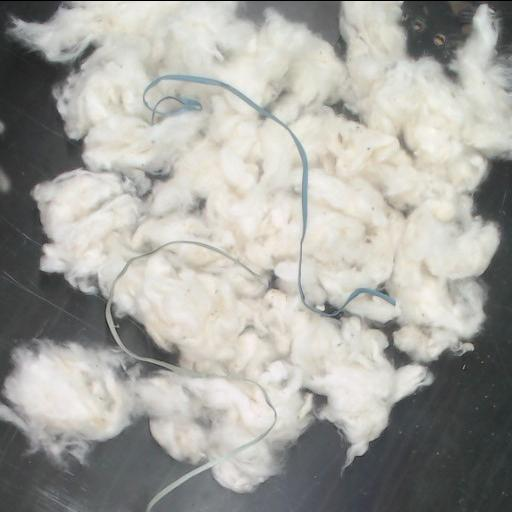conveyor belt: (155, 161, 511, 512), (0, 1, 112, 382), (0, 420, 187, 512), (240, 1, 343, 47), (404, 1, 481, 60)
cotton: (16, 1, 511, 491), (0, 339, 272, 463)
thread: (106, 240, 277, 512), (289, 130, 395, 316), (142, 74, 289, 129)
